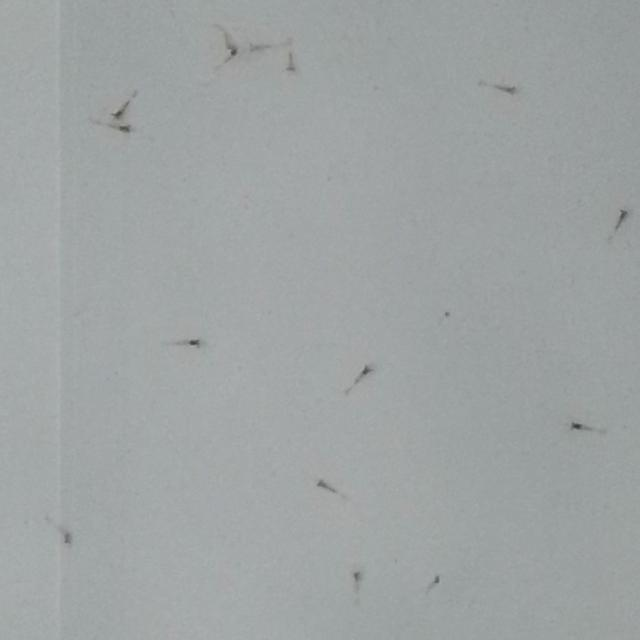shrimp-seed: (492, 80, 521, 98), (611, 206, 631, 232), (316, 474, 340, 494), (108, 118, 134, 136), (245, 37, 268, 57), (180, 332, 202, 352), (354, 362, 374, 384), (110, 101, 133, 118), (567, 417, 590, 434), (59, 524, 74, 548), (425, 573, 446, 590), (280, 59, 302, 74), (223, 49, 243, 65), (350, 567, 363, 586), (224, 37, 238, 52)
